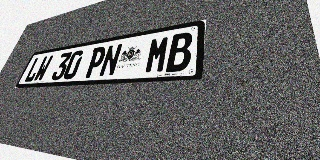0: (62, 50, 85, 80)
3: (50, 52, 73, 80)
B: (165, 31, 193, 72)
L: (23, 56, 44, 82)
M: (144, 35, 171, 74)
N: (98, 43, 123, 77)
P: (83, 46, 108, 78)
W: (32, 55, 54, 82)
